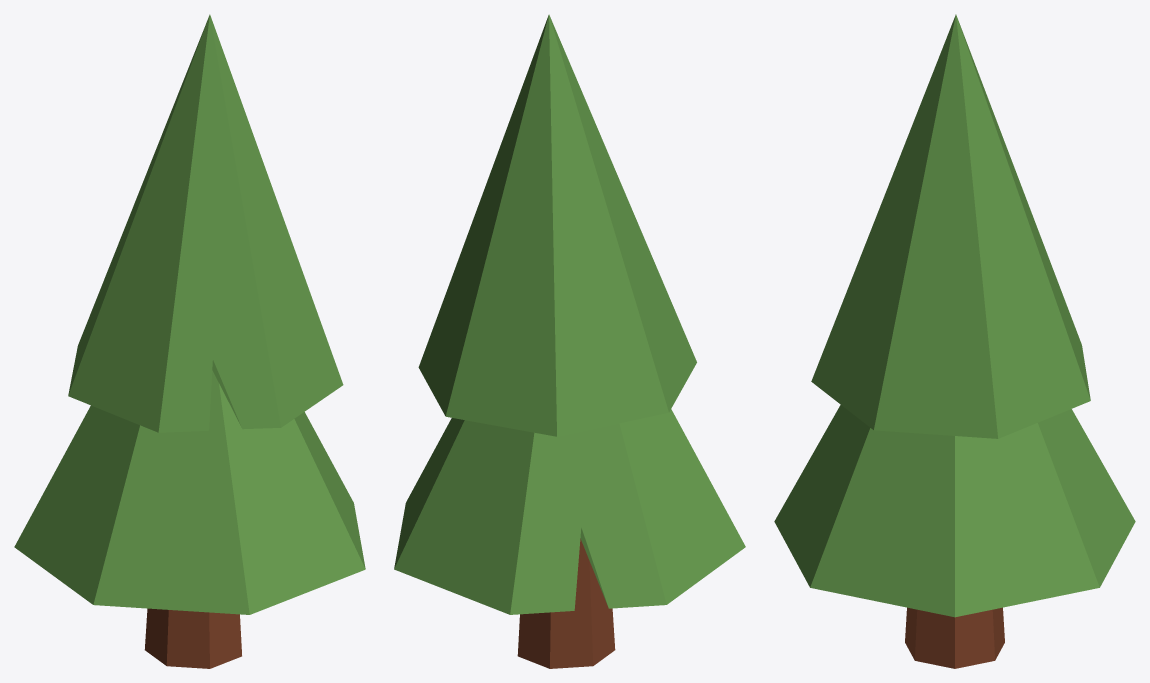
The model's file is Fir_Tree1.fbx.
3 renders of one model, left to right at view 1: azimuth 30°, elevation 25°; view 2: azimuth 150°, elevation 25°; view 3: azimuth 270°, elevation 25°, orthographic.
Parts seen in each view (by area): view 1: polySurface2; view 2: polySurface2; view 3: polySurface2.
Boxes of the visible parts, x1,y1,x2,y2 form: polySurface2: (14,14,365,668); polySurface2: (394,14,745,668); polySurface2: (774,14,1135,668).
Size of the model in its own units: 1.9 by 3.82 by 1.95.
